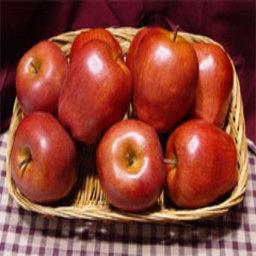apple: (57, 38, 131, 144), (132, 24, 200, 129), (163, 119, 238, 209), (8, 112, 80, 204), (96, 120, 165, 212), (16, 40, 68, 118)
